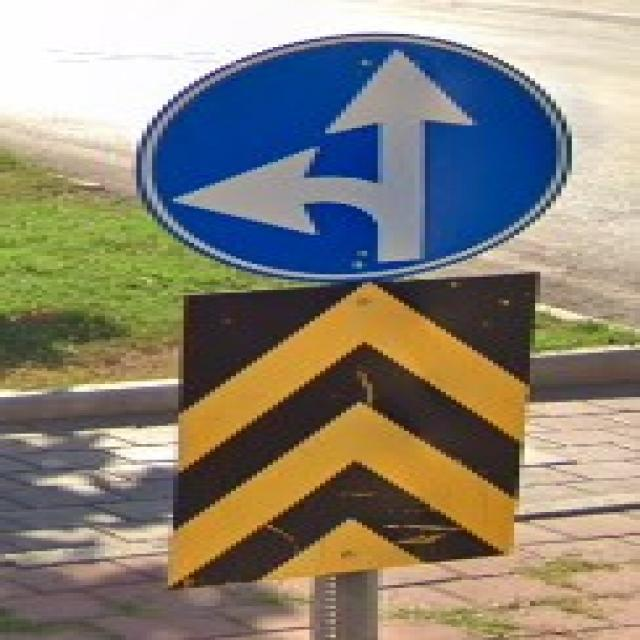Straight or Left: (137, 34, 573, 282)
